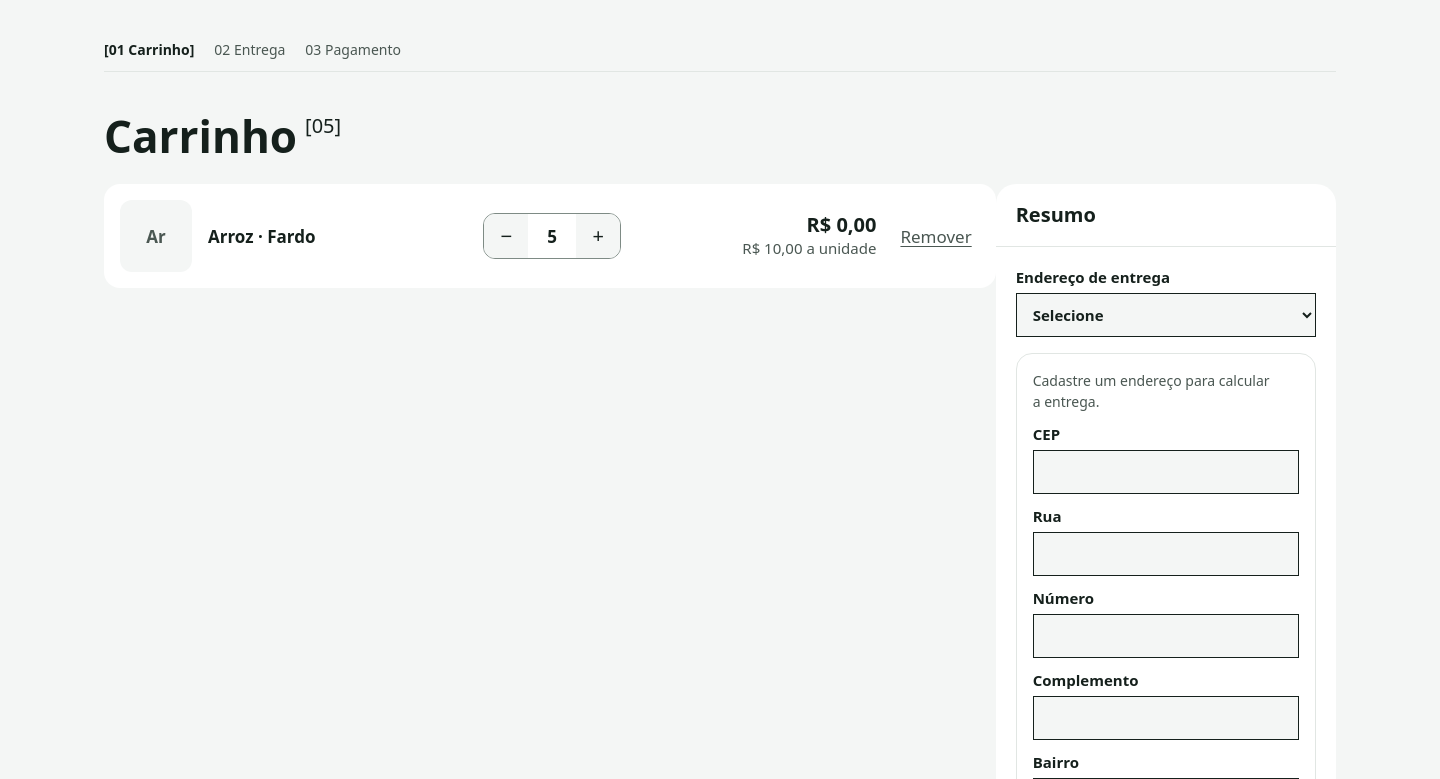
Test case: 409 de estoque ao alterar a quantidade › mostra a mensagem e ajusta para available
This screenshot has width=1440, height=779.
Click the button "+" at x=598, y=236, box 576,214 -> 620,258
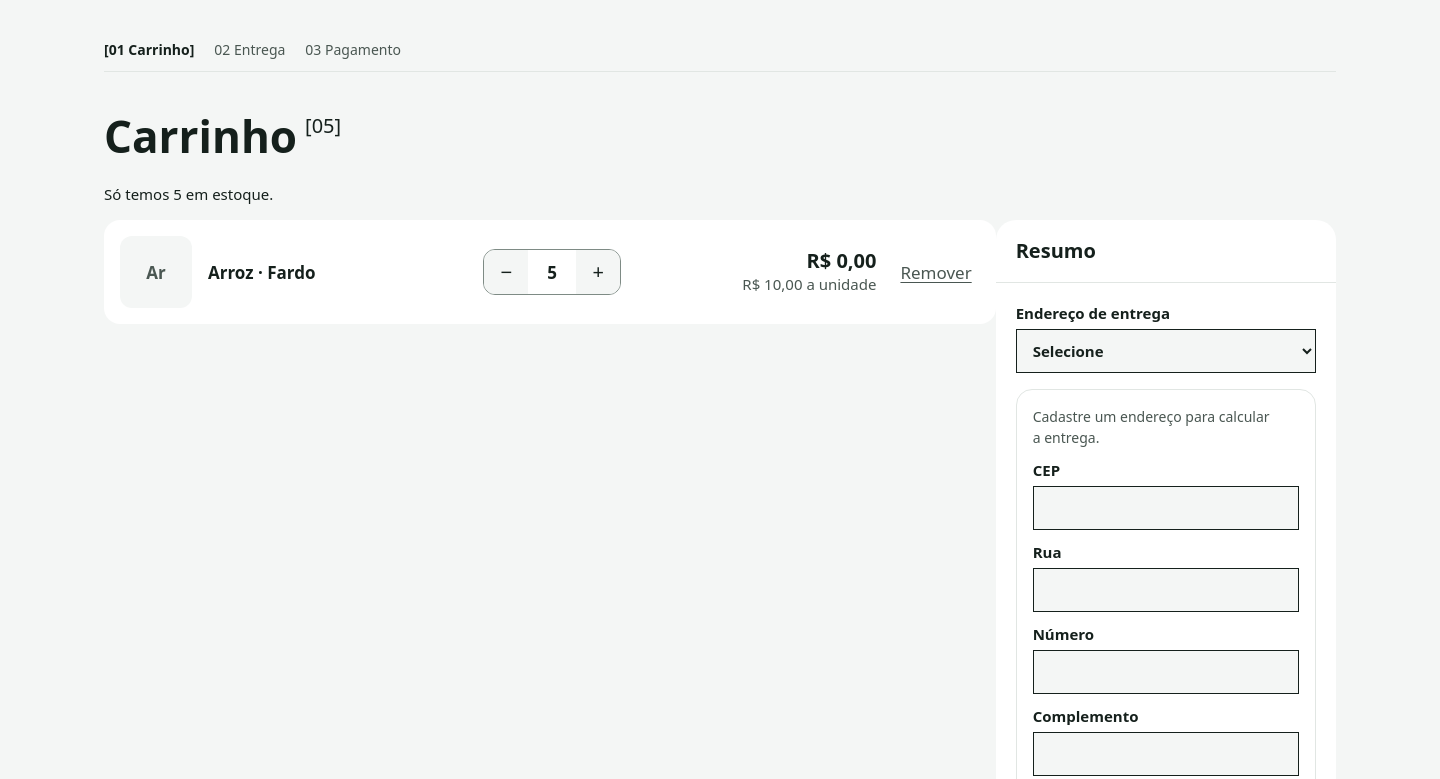
Expected: the message with class "cart-notice" reads "Só temos 5 em estoque.", 104,184 -> 273,204
